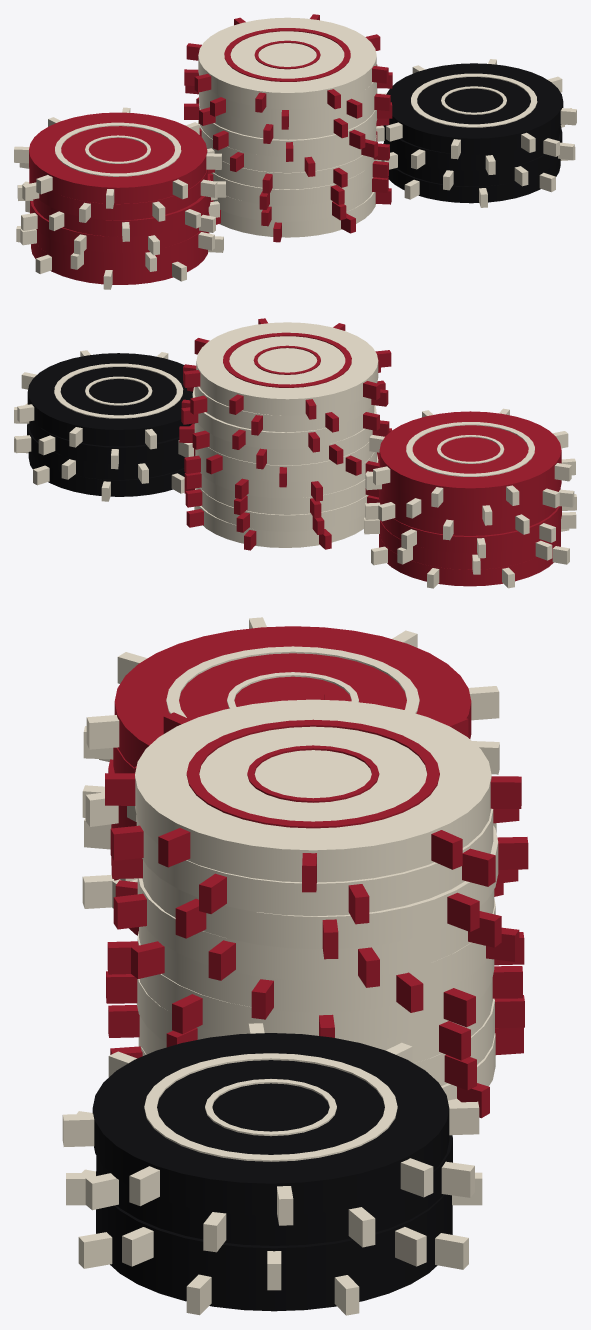
File: chip_stack.glb
3 renders of one model, top to bottom at view 1: azimuth 30°, elevation 25°; view 2: azimuth 150°, elevation 25°; view 3: azimuth 270°, elevation 25°, orthographic. The views are drawn at different scales.
Visible parts, largest first — view 1: chip_stack; view 2: chip_stack; view 3: chip_stack.
Part boxes in pixels (left/top/right/bottom): chip_stack: left=14, top=14, right=576, bottom=289; chip_stack: left=14, top=318, right=576, bottom=588; chip_stack: left=62, top=617, right=528, bottom=1315.
Size of the model in its own units: 1.37 by 0.362 by 0.5218.
